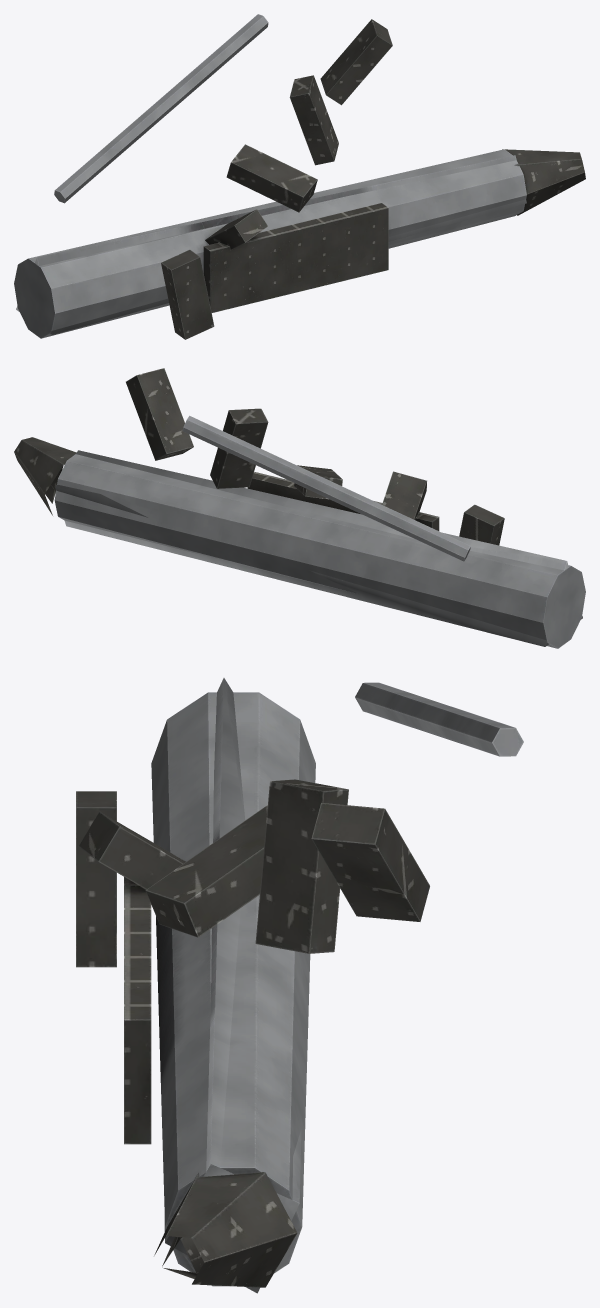
Rendered from sd_prop_debris1.glb.
3 views of the same model, one above another, from view 1: azimuth 30°, elevation 25°; view 2: azimuth 150°, elevation 25°; view 3: azimuth 270°, elevation 25° (orthographic). The views are drawn at different scales.
Parts seen in each view (by area): view 1: LOD0_body, LOD1_body; view 2: LOD0_body, LOD1_body; view 3: LOD0_body, LOD1_body.
Boxes of the visible parts, x1,y1,x2,y2 form: LOD0_body: (14,14,585,339); LOD1_body: (16,155,526,334); LOD0_body: (14,368,585,648); LOD1_body: (45,450,582,646); LOD0_body: (76,682,523,1287); LOD1_body: (162,678,301,1293).
Size of the model in its own units: 1 by 0.3571 by 0.3601.
Materials: 1 (1 with a texture image).
